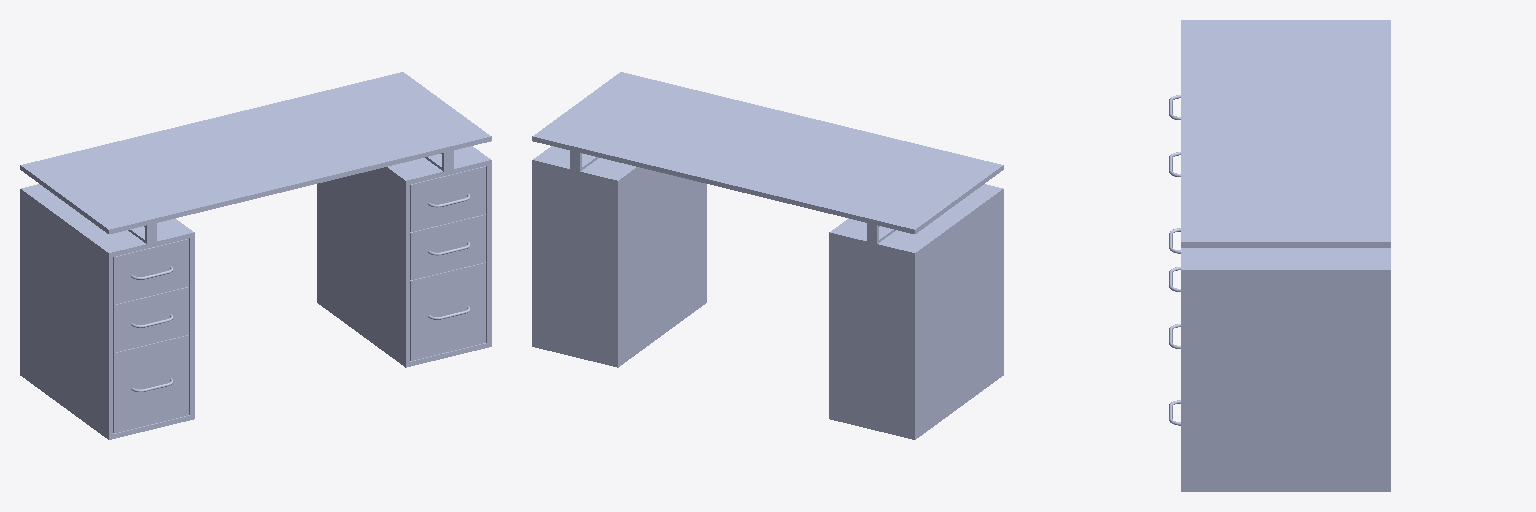
The robot description file, URDF, robot "computer_desk4":
<robot
  name="computer_desk4">
  <link
    name="computer_desk4">
    <inertial>
      <origin
        xyz="4.7567E-17 0.000327280000000027 0.44842"
        rpy="0 0 0" />
      <mass
        value="74.688" />
      <inertia
        ixx="8.70307181851642"
        ixy="5.44963379978114E-15"
        ixz="-1.40209024945825E-15"
        iyy="29.4931848331126"
        iyz="0.00279553469881109"
        izz="26.8431203420316" />
    </inertial>
    <visual>
      <origin
        xyz="0 0 0"
        rpy="0 0 0" />
      <geometry>
        <mesh
          filename="package://computer_desk4/meshes/computer_desk4.dae" />
      </geometry>
      <material
        name="">
        <color
          rgba="0.79216 0.81961 0.93333 1" />
      </material>
    </visual>
    <collision>
      <origin
        xyz="0 0 0"
        rpy="0 0 0" />
      <geometry>
        <mesh
          filename="package://computer_desk4/meshes/computer_desk4.dae" />
      </geometry>
    </collision>
  </link>
</robot>

--- Facts derived from the render (not from the file) ---
Views: 3 orthographic renders of the robot side by side, from view 1: azimuth 30°, elevation 25°; view 2: azimuth 150°, elevation 25°; view 3: azimuth 270°, elevation 25°.
Model computer_desk4 with 1 links and 0 joints (none), rooted at computer_desk4, posed every joint at zero.
Links seen in each view (by area): view 1: computer_desk4; view 2: computer_desk4; view 3: computer_desk4.
Link boxes in pixels (x1,y1,x2,y2): computer_desk4: [20, 72, 491, 439]; computer_desk4: [532, 72, 1003, 439]; computer_desk4: [1169, 20, 1390, 491].
Size in the robot's own frame: 1.5 by 0.635 by 0.788 metres.
1 mesh visuals loaded from 1 distinct referenced files (1 Collada DAE).